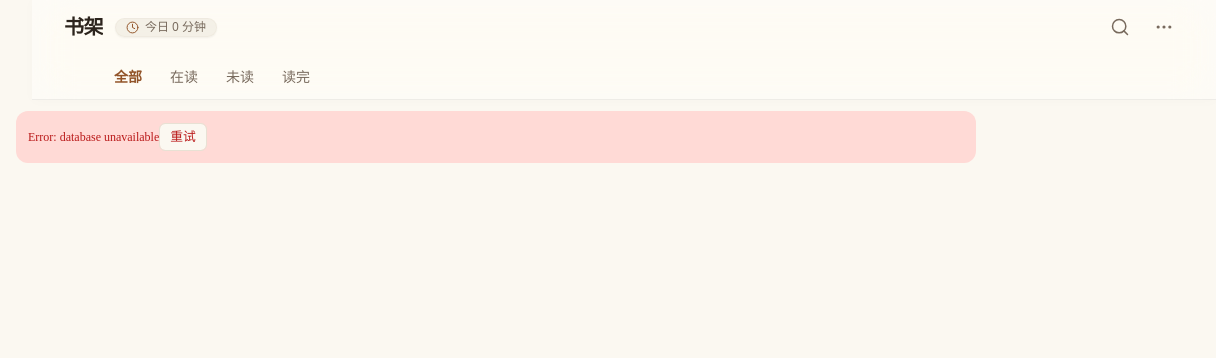
Test: real library presentation › makes a database failure visible and permits retry
The width and height of the screenshot is (1216, 358).
Expected: the message shows "database unavailable", [28,130,159,144]
Click the button "重试": click(183, 137) [159,123,207,151]
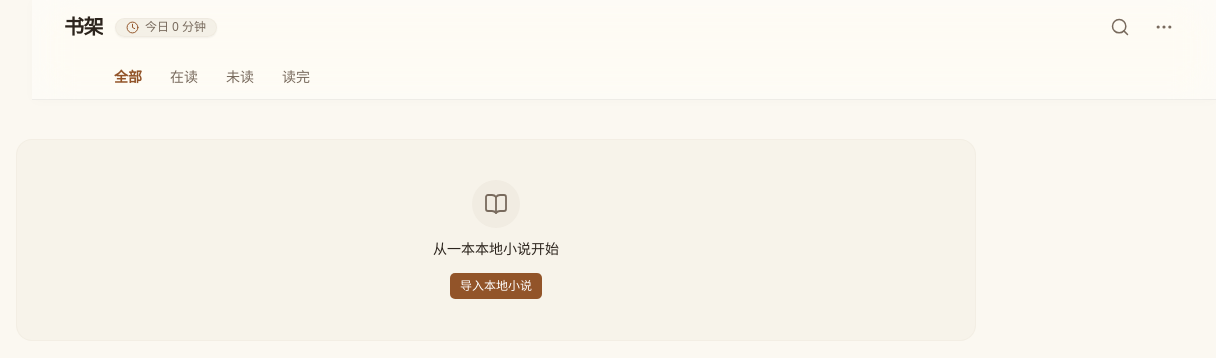
Expected: the message "Error: database unavailable 重试" is gone
